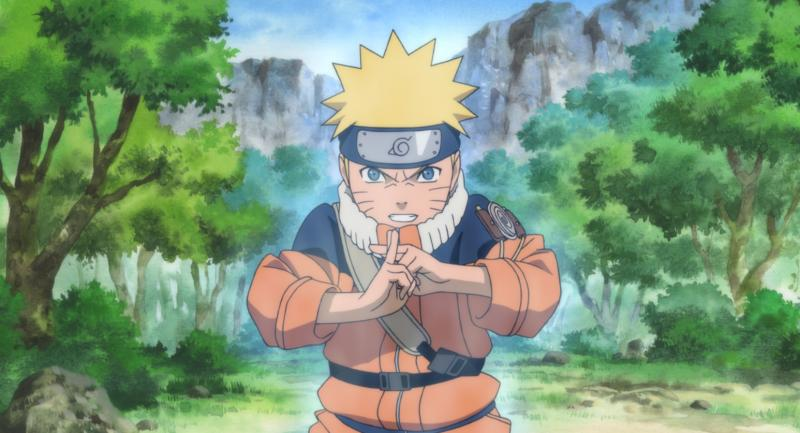naruto: (333, 113, 463, 231)
